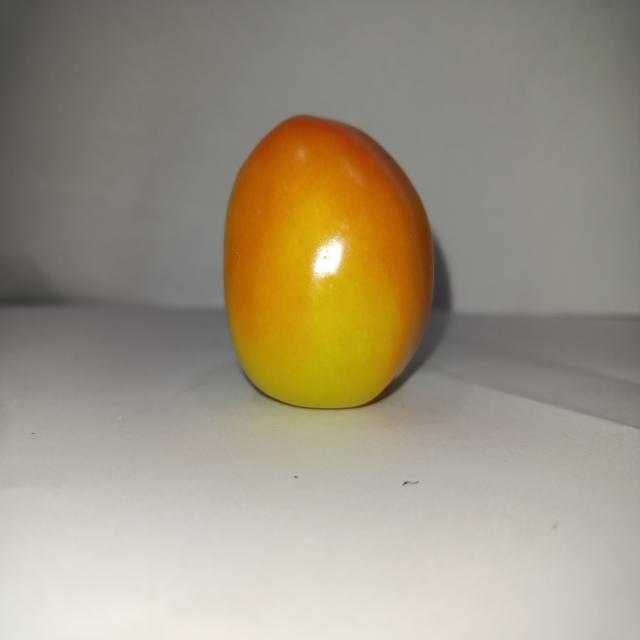Red: (221, 113, 435, 410)
